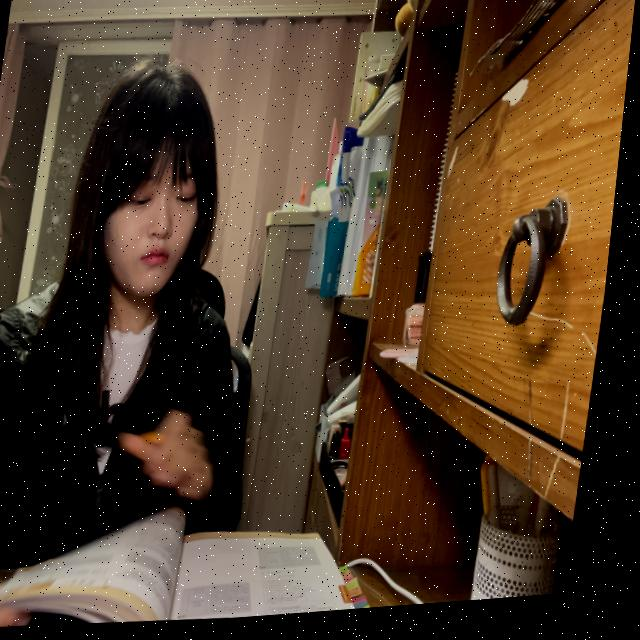studying-person: (0, 37, 458, 640)
